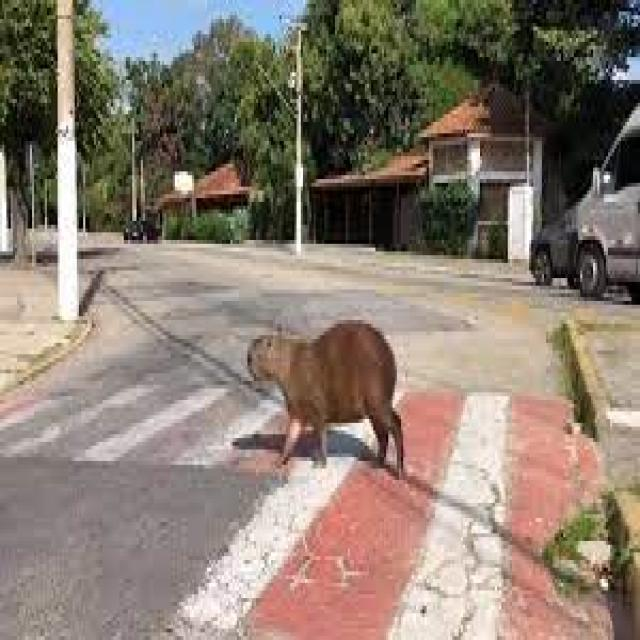capy: (247, 314, 408, 484)
